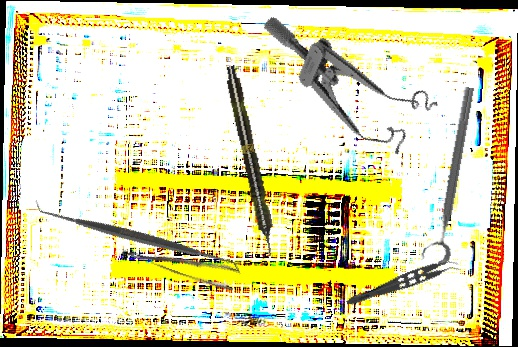Dressing Forceps: (126, 233, 241, 294)
Fixation Ring: (419, 84, 480, 266)
Handpiece: (222, 64, 279, 258)
Spatula Surgical: (34, 135, 242, 340)
Speculum: (236, 14, 448, 163)
Tissue Forceps: (344, 253, 462, 316)
